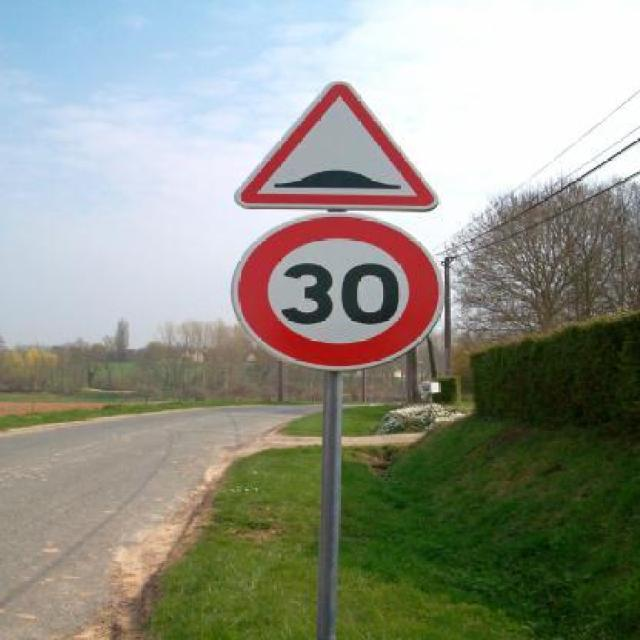rough_road: (230, 80, 444, 212)
speed_limit_30: (233, 212, 442, 370)
